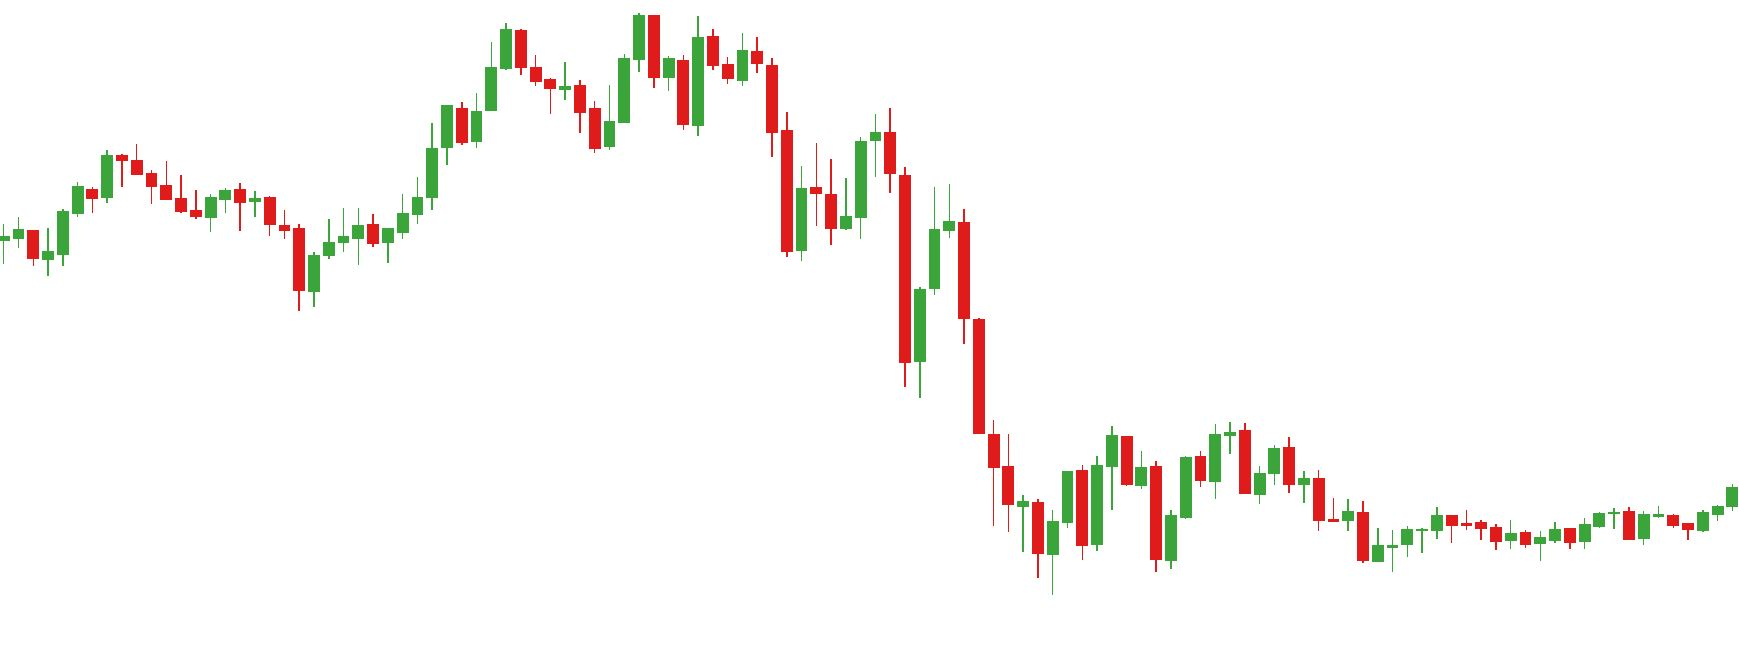sell: (499, 13, 661, 112), (777, 106, 899, 207)
